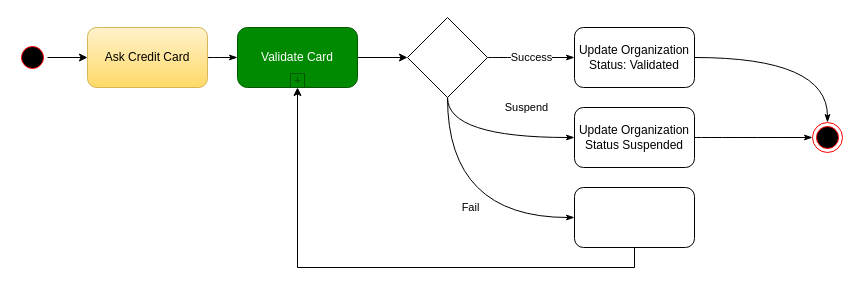
This 860x293 diagram has some shape labels left out. Each missing label, with the centre of its shape:
Check Response: (447,57)
Update Organization Status Pending: (634,217)
